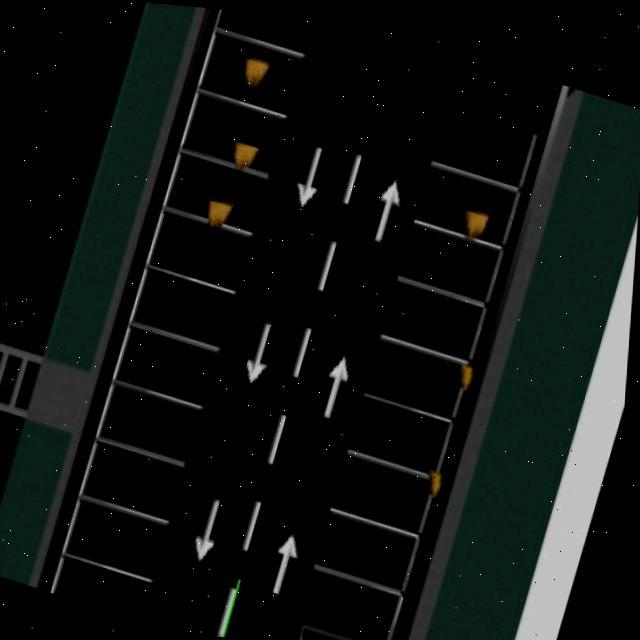garbage-trXY: (239, 56, 269, 88), (459, 211, 490, 237), (232, 139, 257, 169), (203, 198, 233, 221), (428, 465, 446, 491), (456, 361, 470, 383)
